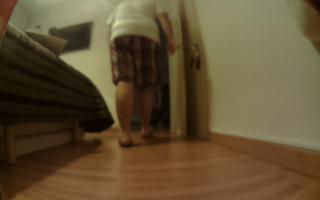person: (102, 1, 179, 150)
